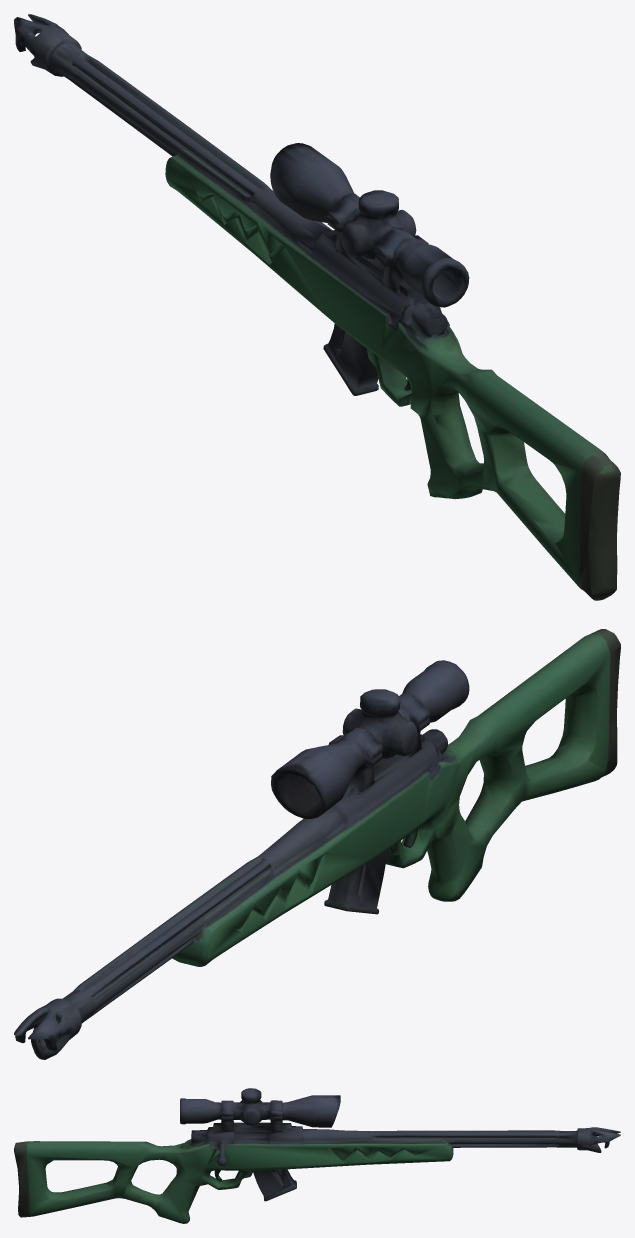
File: r_viper.glb
The picture shows the model from 3 angles, top to bottom: view 1: azimuth 30°, elevation 25°; view 2: azimuth 150°, elevation 25°; view 3: azimuth 270°, elevation 25°; orthographic projection. The views are drawn at different scales.
Visible parts, largest first — view 1: node_0; view 2: node_0; view 3: node_0.
Boxes of the visible parts, left/top/right/bottom form: node_0: left=14, top=14, right=620, bottom=600; node_0: left=14, top=629, right=620, bottom=1059; node_0: left=14, top=1088, right=620, bottom=1223.
Size of the model in its own units: 0.0997 by 0.3277 by 1.39.
1 material, 1 textured.
